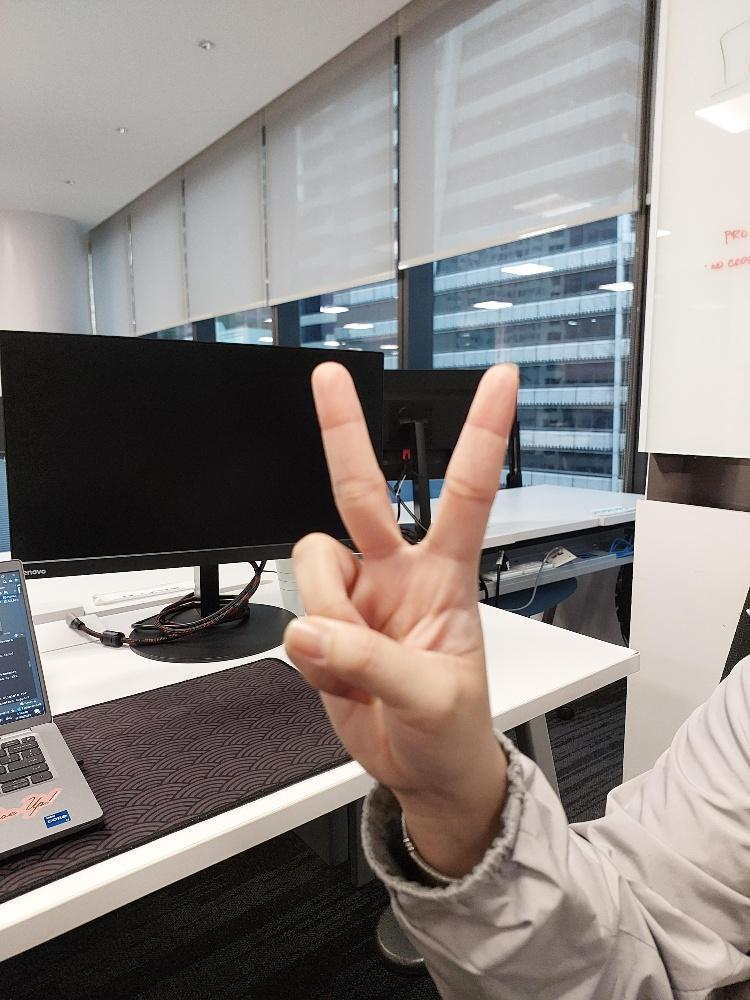v: (283, 359, 520, 784)
